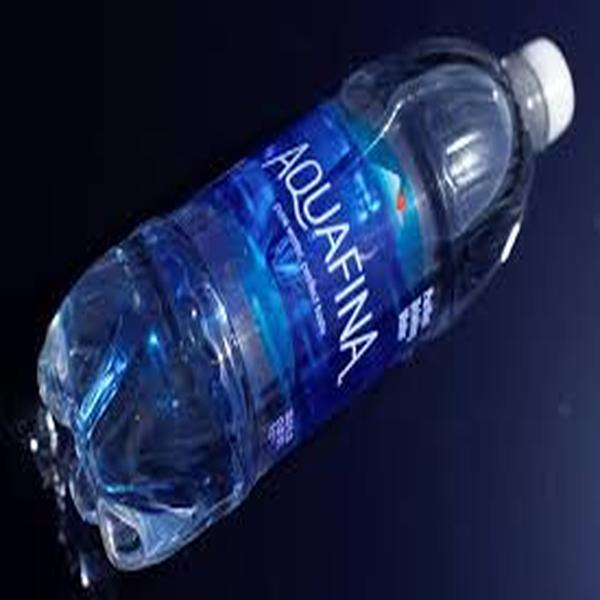tutuma: (22, 18, 578, 567)
